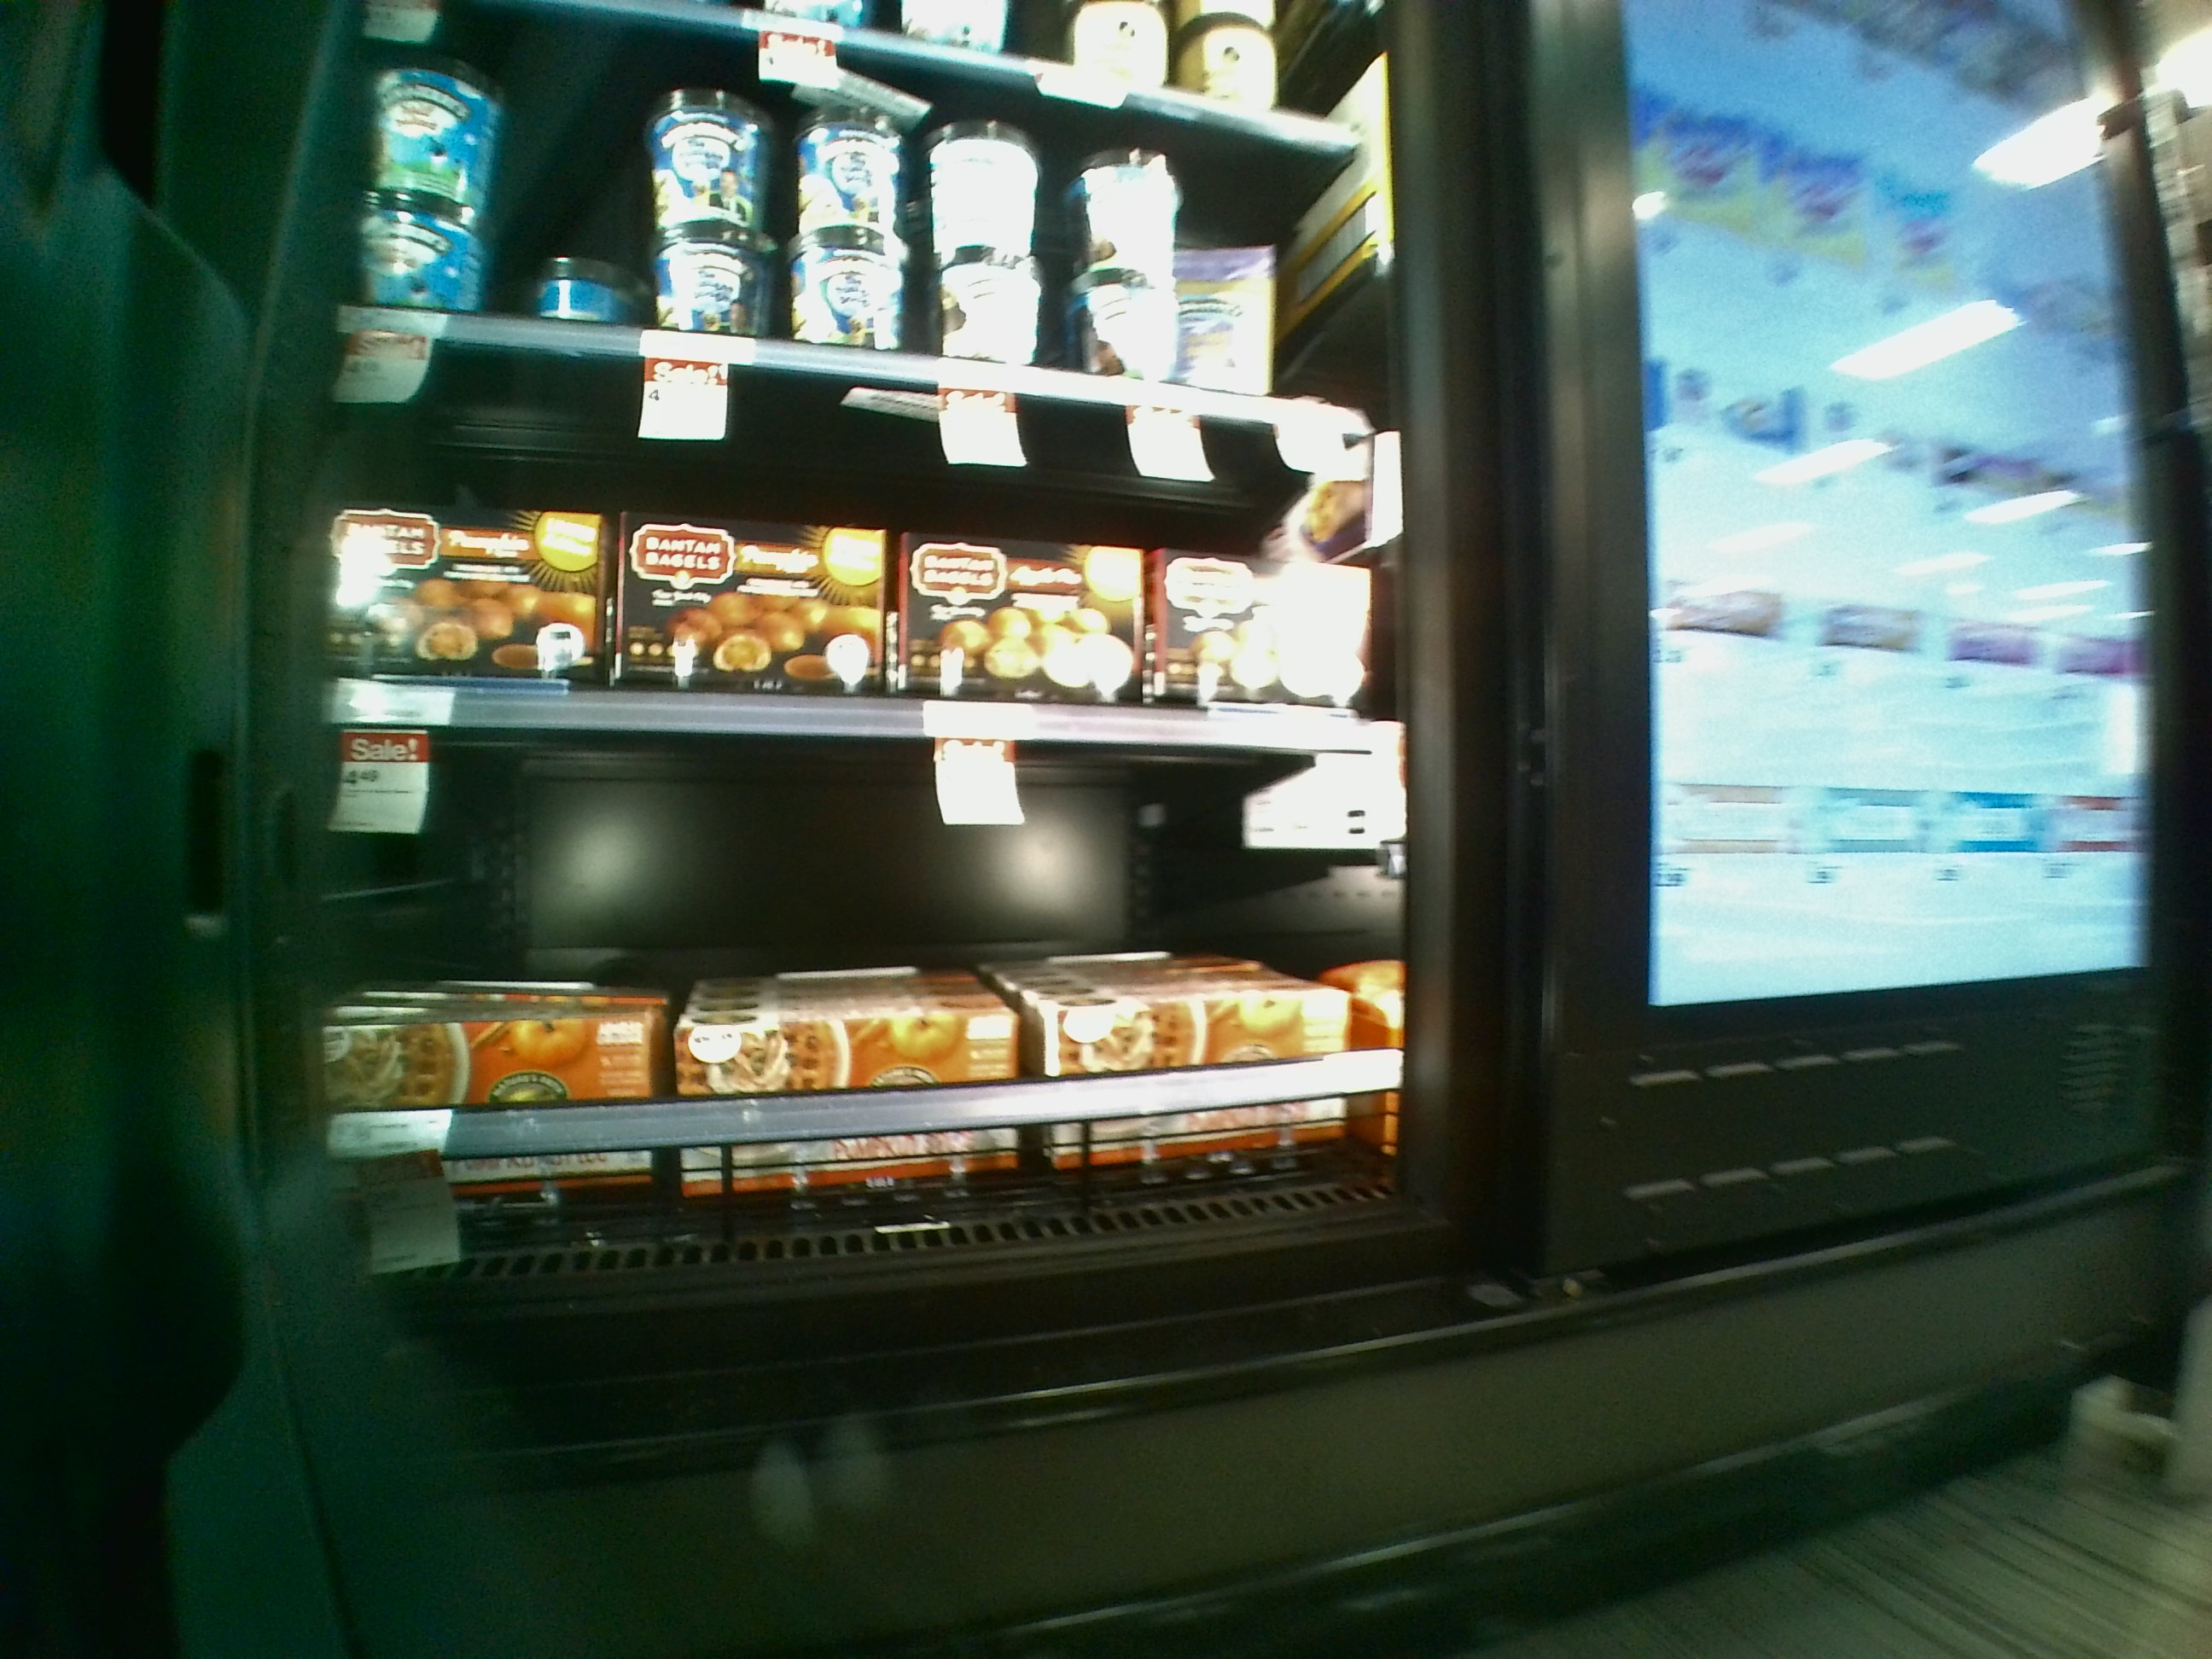shelf: (268, 718, 1416, 1290), (307, 324, 1413, 755)
